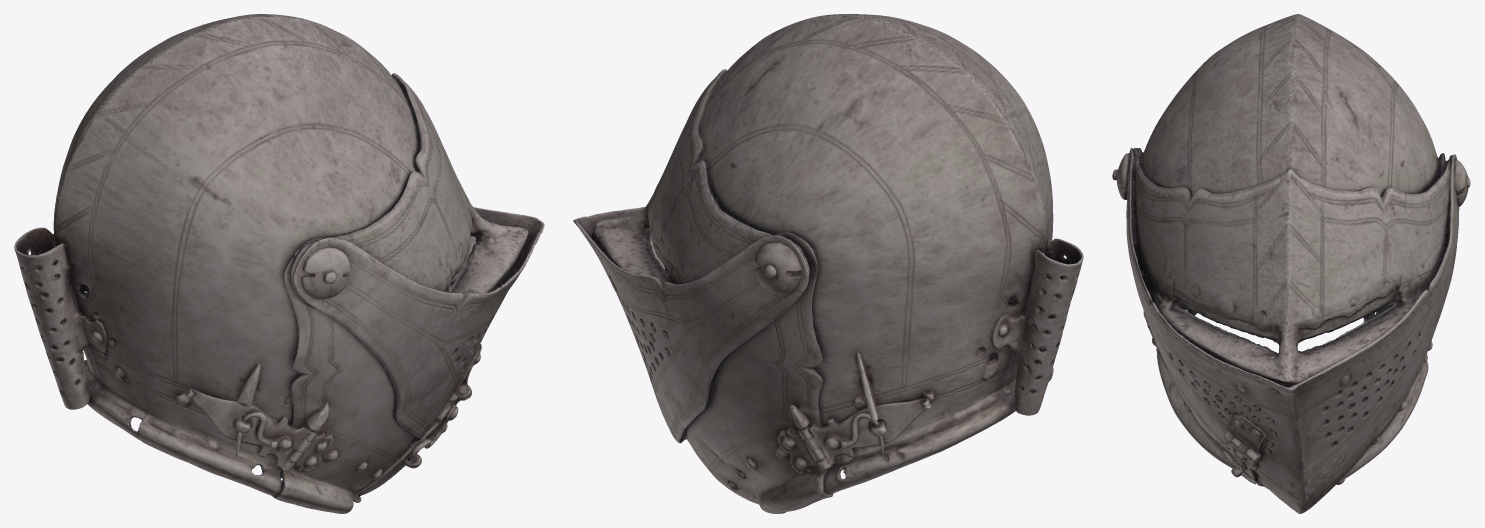
Rendered from jousting-helmet-studio.glb.
The picture shows the model from 3 angles, left to right: view 1: azimuth 30°, elevation 25°; view 2: azimuth 150°, elevation 25°; view 3: azimuth 270°, elevation 25°; orthographic projection. The views are drawn at different scales.
Visible parts, largest first — view 1: Object_6, Object_5, Object_7, Object_12, Object_8, Object_11, Object_10, Object_4, Object_9, Object_2, Object_3; view 2: Object_2, Object_7, Object_4, Object_10, Object_6, Object_9, Object_11, Object_8, Object_3, Object_12, Object_5; view 3: Object_5, Object_6, Object_7, Object_3, Object_10, Object_4, Object_9, Object_2, Object_12, Object_8, Object_11.
Part boxes in pixels (x1,y1,x2,y2): Object_6: (54, 55, 544, 434); Object_5: (262, 22, 541, 487); Object_7: (91, 85, 405, 496); Object_12: (14, 87, 544, 408); Object_8: (88, 305, 465, 512); Object_11: (14, 134, 469, 512); Object_10: (14, 14, 364, 479); Object_4: (282, 48, 527, 478); Object_9: (40, 63, 473, 513); Object_2: (53, 20, 480, 404); Object_3: (280, 260, 528, 470); Object_2: (672, 25, 1046, 452); Object_7: (663, 42, 1053, 503); Object_4: (594, 45, 880, 513); Object_10: (631, 14, 1073, 498); Object_6: (573, 23, 1053, 384); Object_9: (662, 57, 1056, 493); Object_11: (820, 135, 1083, 439); Object_8: (632, 70, 1015, 417); Object_3: (643, 267, 844, 511); Object_12: (574, 77, 1083, 384); Object_5: (580, 21, 800, 349); Object_5: (1126, 49, 1427, 485); Object_6: (1199, 20, 1444, 443); Object_7: (1162, 37, 1468, 513); Object_3: (1194, 349, 1428, 513); Object_10: (1184, 14, 1428, 496); Object_4: (1126, 65, 1454, 484); Object_9: (1160, 122, 1380, 488); Object_2: (1207, 14, 1459, 500); Object_12: (1112, 60, 1464, 412); Object_8: (1145, 119, 1470, 487); Object_11: (1144, 301, 1259, 483).
Bounding box in the file's own units: 1.09 × 1.02 × 0.7728.
1 material, 1 textured.
